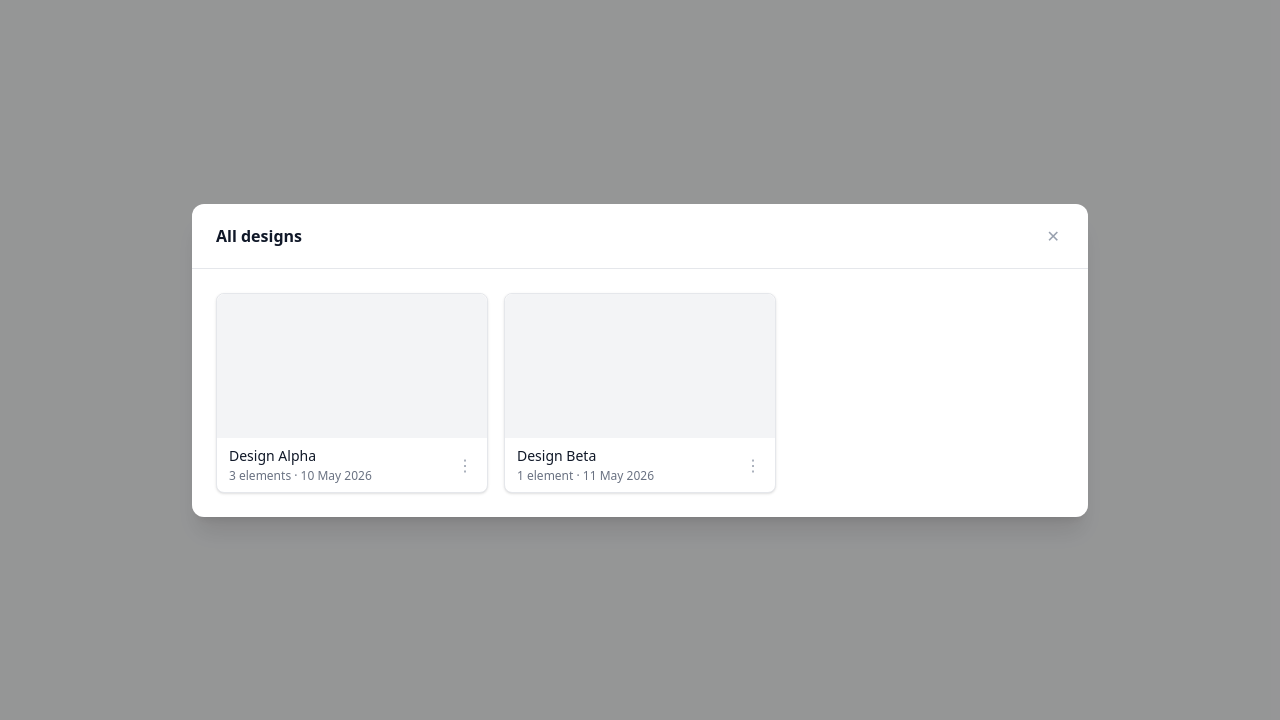
AC9 — Rename opens modal pre-filled › opens the rename modal
What coordinates should you click on to do the following:
click the button named "project options"
I would click on:
 (465, 464)
Its box is x1=455 y1=446 x2=475 y2=484.
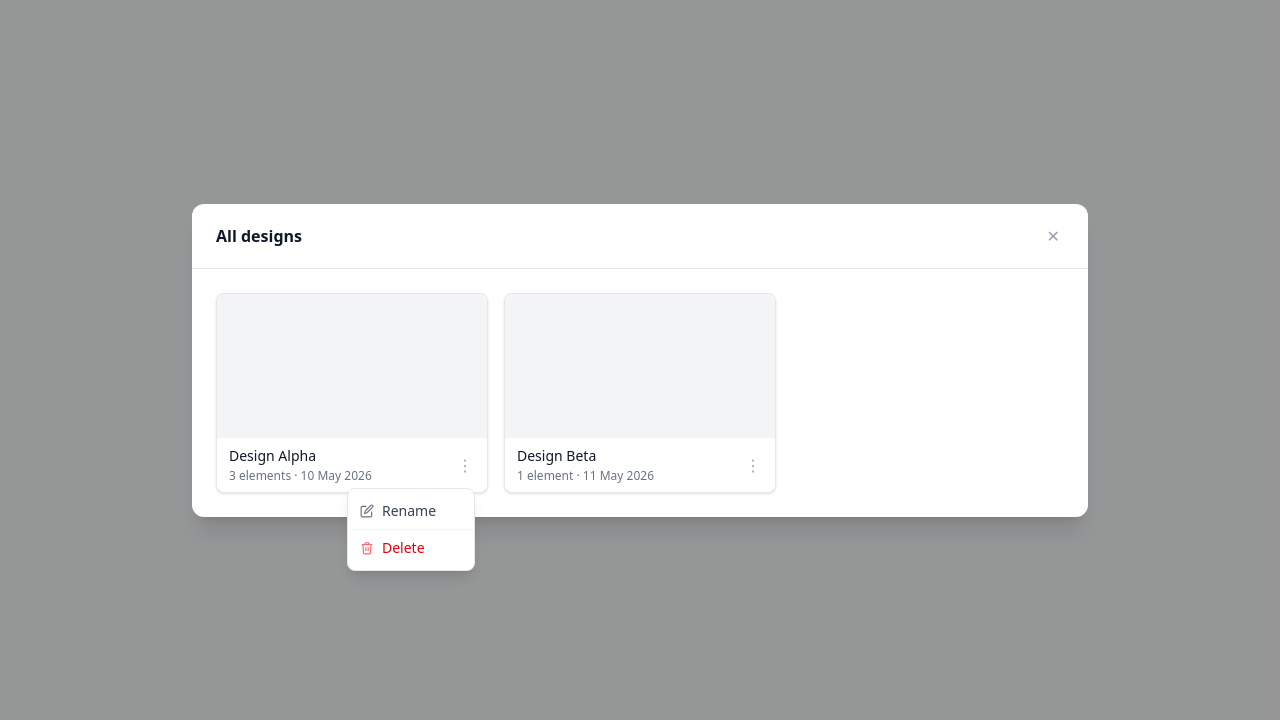
What coordinates should you click on to do the following:
click the button "Rename"
I would click on:
 (411, 510)
Its box is x1=348 y1=492 x2=474 y2=528.
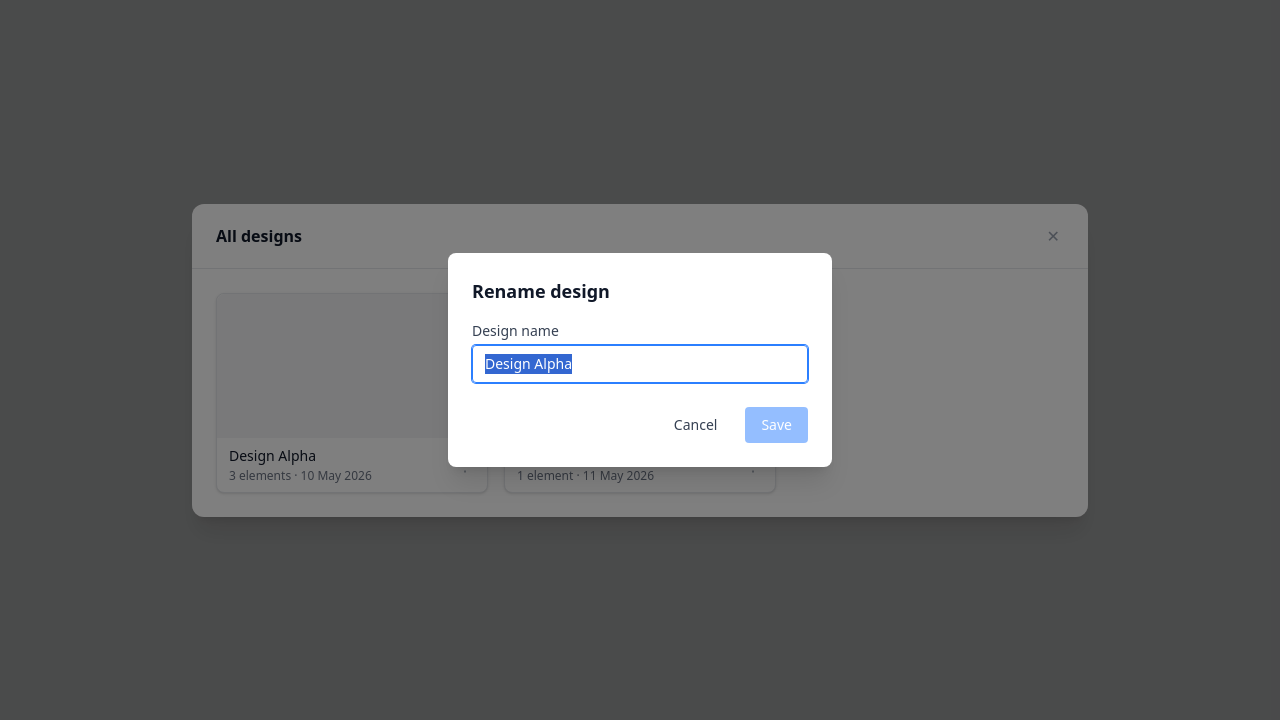
Result: the dialog "Rename design Design name Cancel Save" is shown
